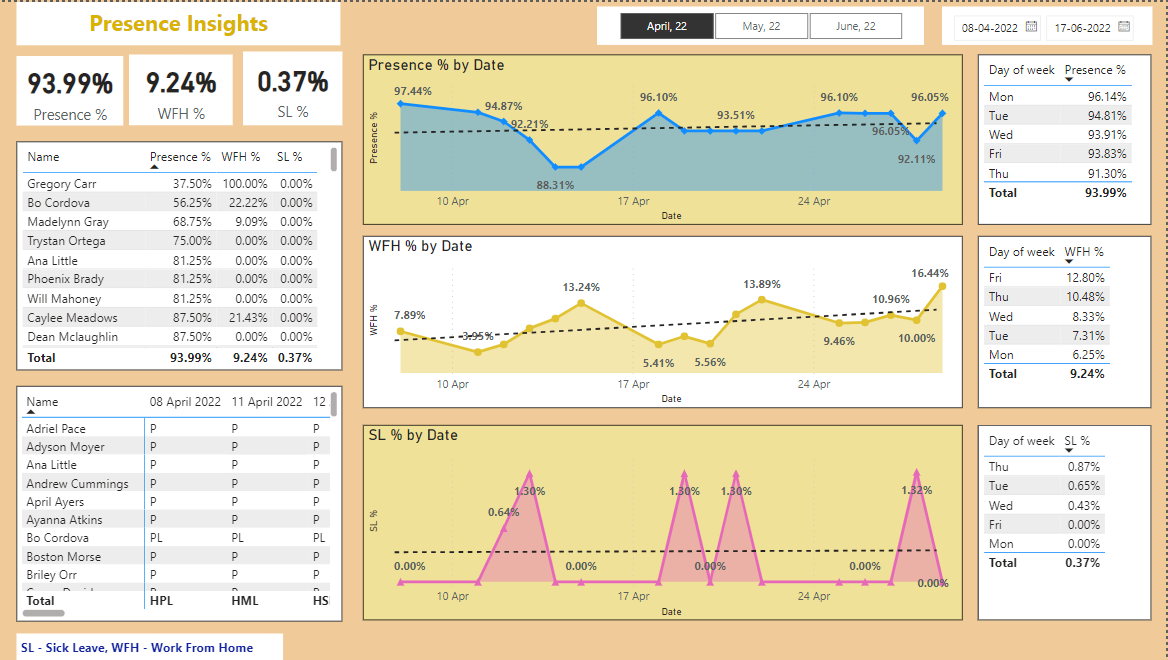

What the dashboard file says about the page in this screenshot:
{"tool":"powerbi","page":{"name":"Presence Overview","canvas":[1280,720],"ordinal":1},"visuals":[{"type":"card","fields":{"Values":["Measuring Table.Present %"]},"box":[24.3,58.2,116.5,76],"z":0},{"type":"slicer","fields":{"Values":["Final Data.Month"]},"box":[658.5,4.9,357.6,42.1],"z":1000},{"type":"card","fields":{"Values":["Measuring Table.WFH %"]},"box":[147.2,56.6,113.3,77.7],"z":2000},{"type":"card","fields":{"Values":["Measuring Table.SL %"]},"box":[271.8,53.4,108.4,80.9],"z":3000},{"type":"tableEx","fields":{"Values":["Final Data.Name","Measuring Table.Presence %","Measuring Table.WFH %","Measuring Table.SL %"]},"box":[24.3,152.9,355.7,250],"z":4000},{"type":"textbox","box":[24.3,0,354.3,47.1],"z":5000},{"type":"pivotTable","fields":{"Rows":["Final Data.Name"],"Values":["Min(Final Data.Value)"],"Columns":["Final Data.Date"]},"box":[24.3,419.1,356,257.3],"z":6000},{"type":"areaChart","fields":{"Category":["Final Data.Date"],"Y":["Measuring Table.Presence %"]},"box":[402.9,56.6,655.3,186.1],"z":7000},{"type":"areaChart","fields":{"Category":["Final Data.Date"],"Y":["Measuring Table.WFH %"]},"box":[402.9,255.6,655.3,187.7],"z":8000},{"type":"areaChart","fields":{"Category":["Final Data.Date"],"Y":["Measuring Table.SL %"]},"box":[402.9,462.7,655.3,213.6],"z":9000},{"type":"tableEx","fields":{"Values":["Final Data.Day of week","Measuring Table.Presence %"]},"box":[1076,56.6,189.3,186.1],"z":10000},{"type":"tableEx","fields":{"Values":["Final Data.Day of week","Measuring Table.WFH %"]},"box":[1076,255.6,189.3,187.7],"z":11000},{"type":"tableEx","fields":{"Values":["Final Data.Day of week","Measuring Table.SL %"]},"box":[1076,462.7,189.3,213.6],"z":12000},{"type":"slicer","fields":{"Values":["Final Data.Date"]},"box":[1035.5,4.9,229.8,42.1],"z":12001},{"type":"textbox","box":[24.3,690.9,291.2,29.1],"z":12002}]}

Visuals, with their boxes in screenshot pixels (x1, y1, x2, y2), scaled from the page's 1280x720 canvas onto the 1168x660 screenshot:
card - Measuring Table.Present %: (22,53,128,123)
slicer - Final Data.Month: (601,4,927,43)
card - Measuring Table.WFH %: (134,52,238,123)
card - Measuring Table.SL %: (248,49,347,123)
tableEx - Final Data.Name x Measuring Table.Presence %: (22,140,347,369)
textbox: (22,0,345,43)
pivotTable - Final Data.Name x Min(Final Data.Value): (22,384,347,620)
areaChart - Final Data.Date x Measuring Table.Presence %: (368,52,966,222)
areaChart - Final Data.Date x Measuring Table.WFH %: (368,234,966,406)
areaChart - Final Data.Date x Measuring Table.SL %: (368,424,966,620)
tableEx - Final Data.Day of week x Measuring Table.Presence %: (982,52,1155,222)
tableEx - Final Data.Day of week x Measuring Table.WFH %: (982,234,1155,406)
tableEx - Final Data.Day of week x Measuring Table.SL %: (982,424,1155,620)
slicer - Final Data.Date: (945,4,1155,43)
textbox: (22,633,288,659)
